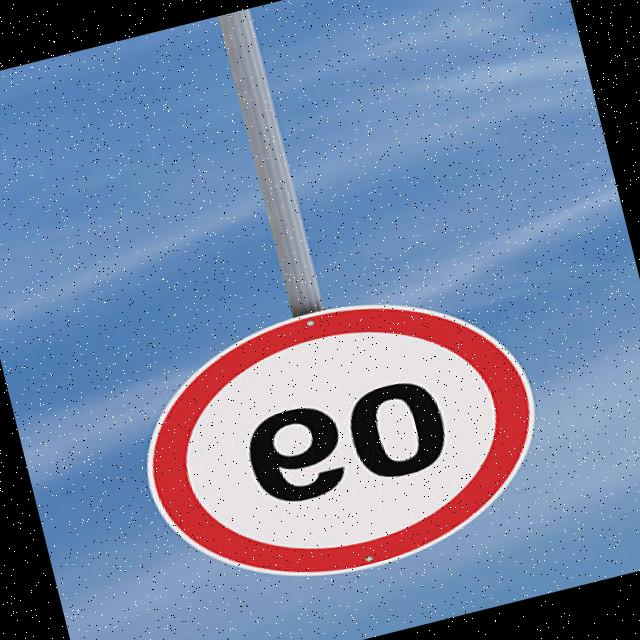speed_limit_60: (111, 259, 573, 620)
